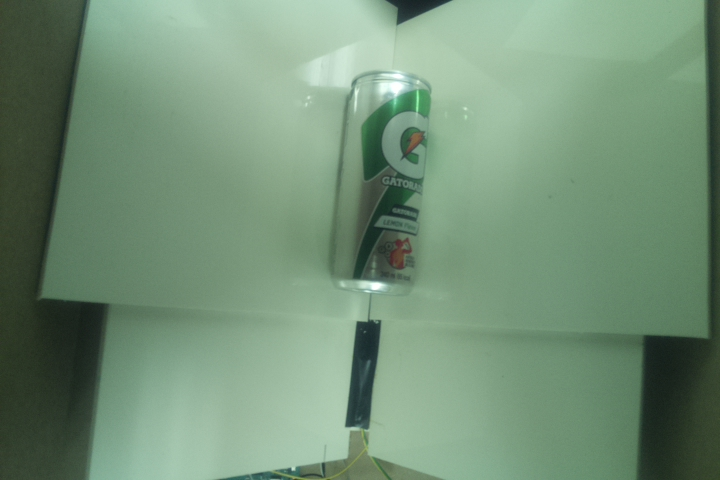can: (325, 65, 436, 294)
